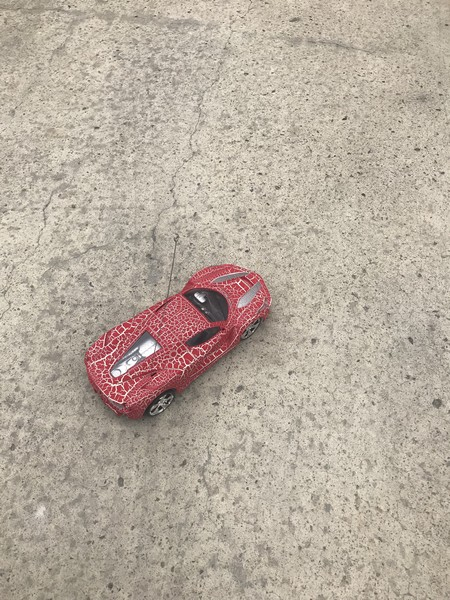RC: (84, 262, 275, 423)
